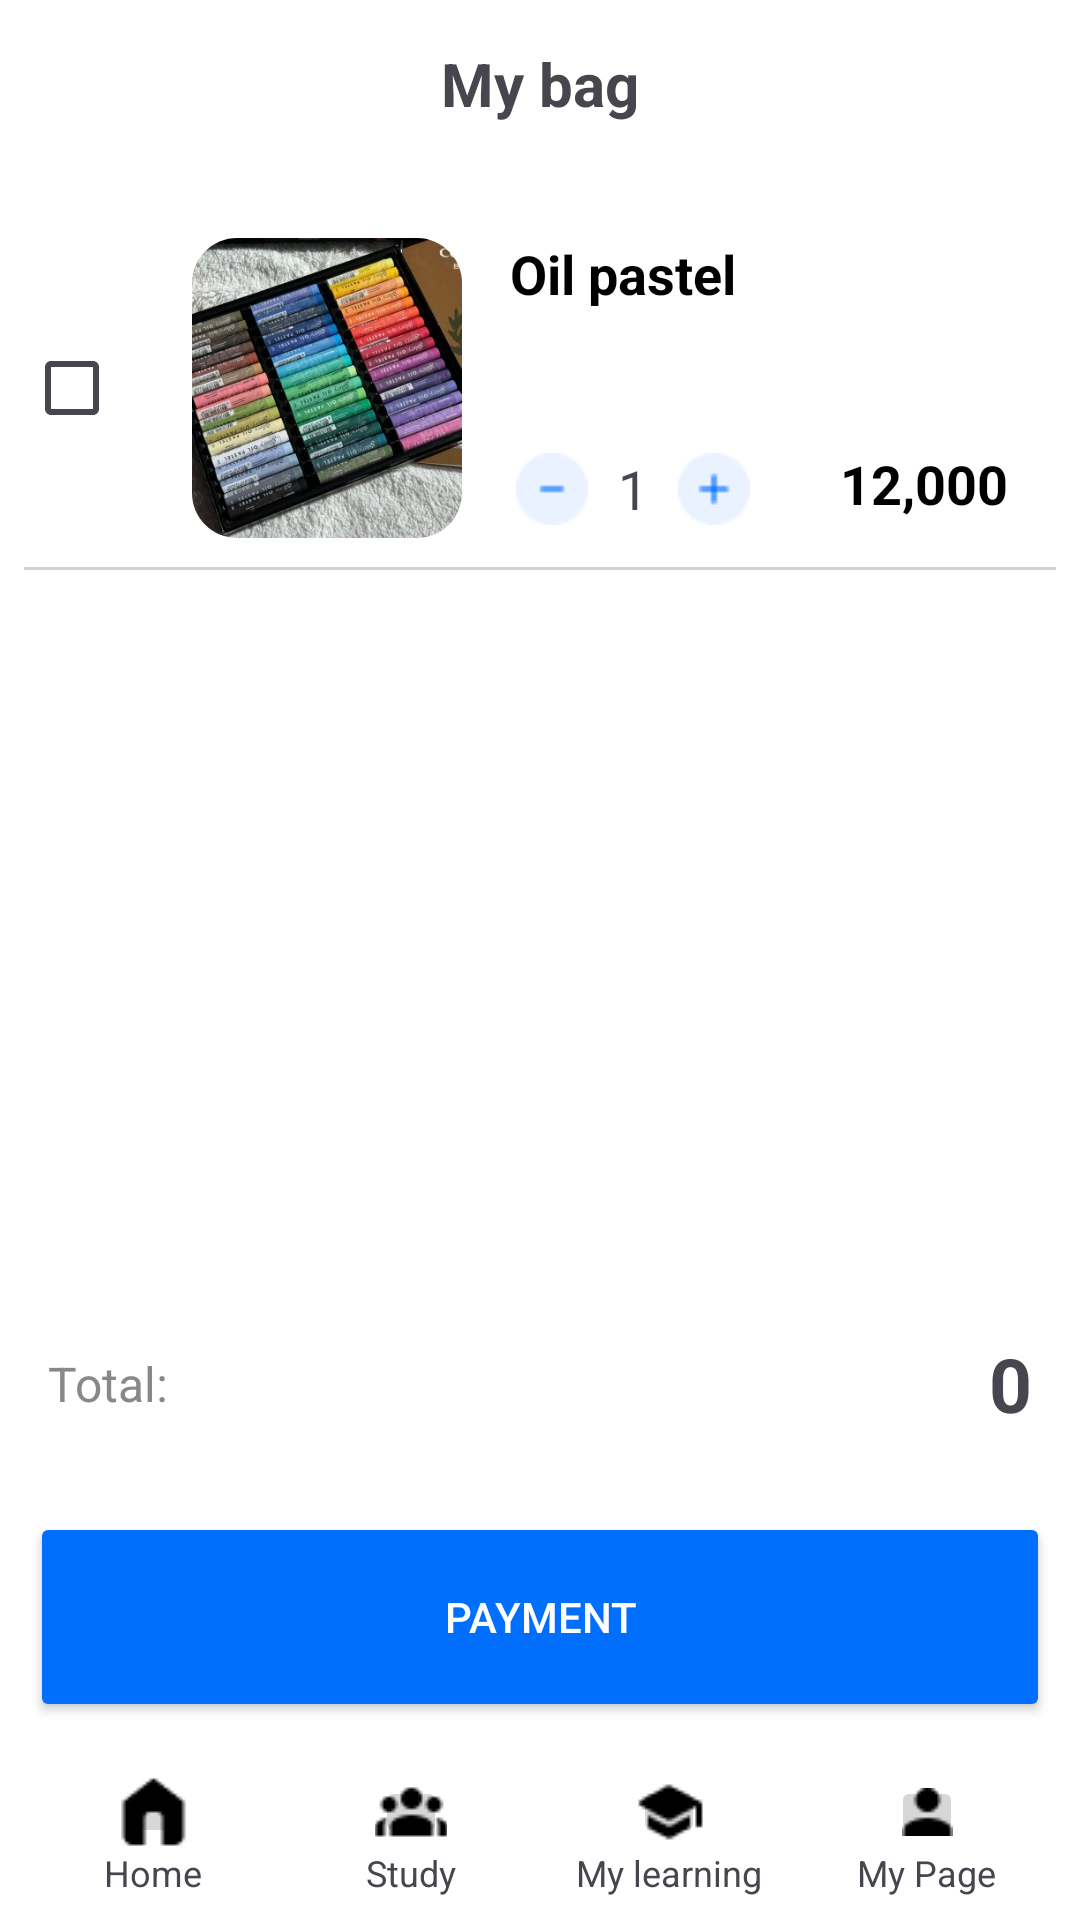

Icon bounding boxes for this 1080px x 1920px phone screenshot, format (x1, y1, x2, y2):
minus: (539, 485, 565, 493)
Plus: (678, 453, 750, 525)
